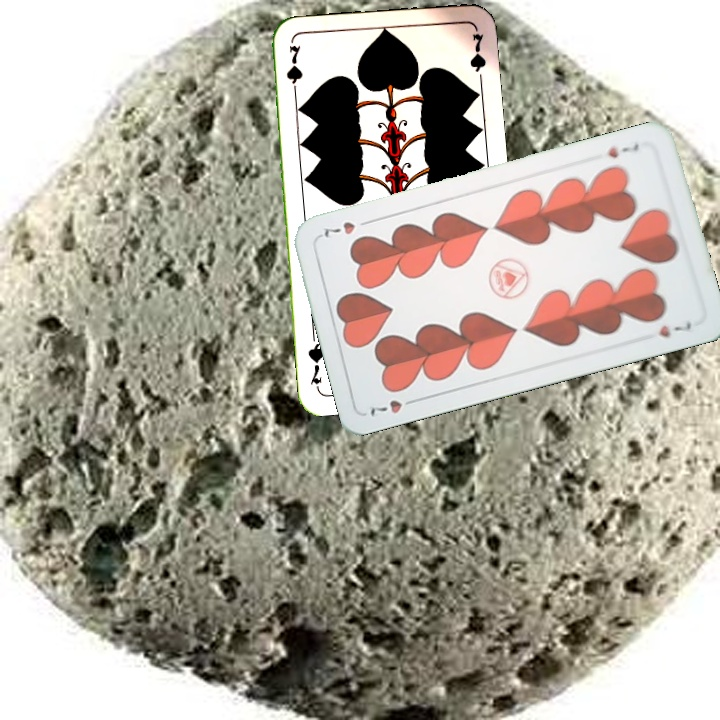G7: (282, 41, 305, 101)
H7: (366, 394, 422, 419), (604, 139, 642, 161)
